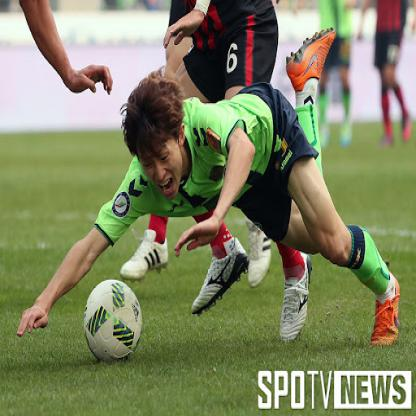Fall_Down: (16, 24, 402, 349)
